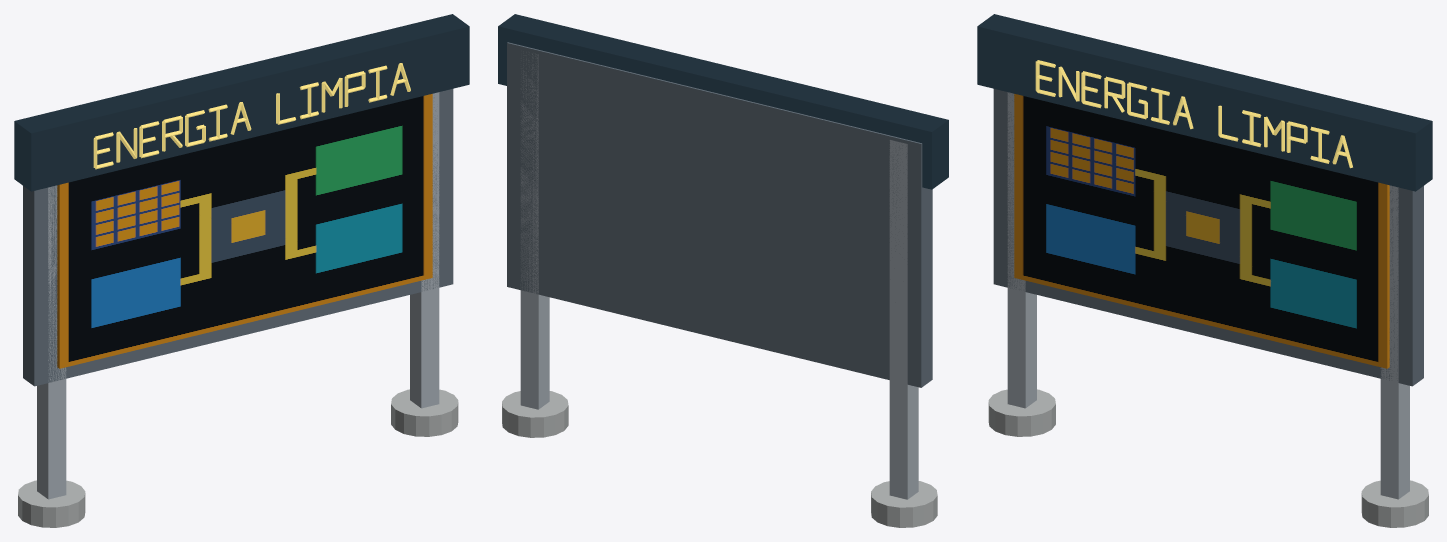
The model's file is ENERGY-028.glb.
3 views of the same model, side by side, from view 1: azimuth 30°, elevation 25°; view 2: azimuth 150°, elevation 25°; view 3: azimuth 330°, elevation 25° (orthographic).
Parts seen in each view (by area): view 1: ENERGY-028; view 2: ENERGY-028; view 3: ENERGY-028.
Boxes of the visible parts, x1,y1,x2,y2 form: ENERGY-028: (14,14,469,527); ENERGY-028: (498,14,948,527); ENERGY-028: (977,14,1432,527).
Size of the model in its own units: 2.68 by 2.32 by 0.36.
6 materials, 1 textured.
